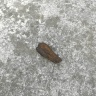Dog: (36, 43, 62, 64)
